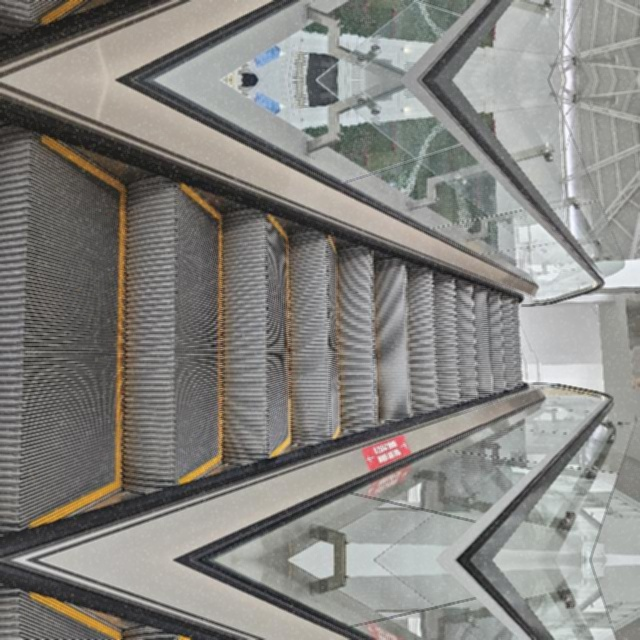stair: (210, 239, 604, 640), (210, 399, 604, 640)
